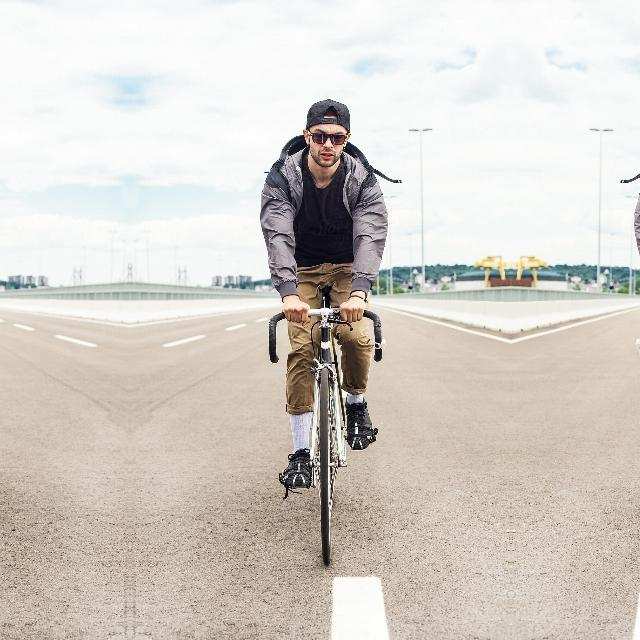obstacle: (250, 304, 402, 584), (619, 304, 640, 584), (0, 304, 8, 584)
